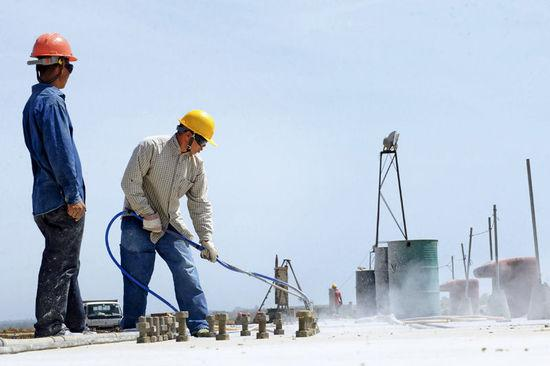helmet: (31, 33, 79, 65), (179, 110, 218, 149), (333, 284, 338, 290)
